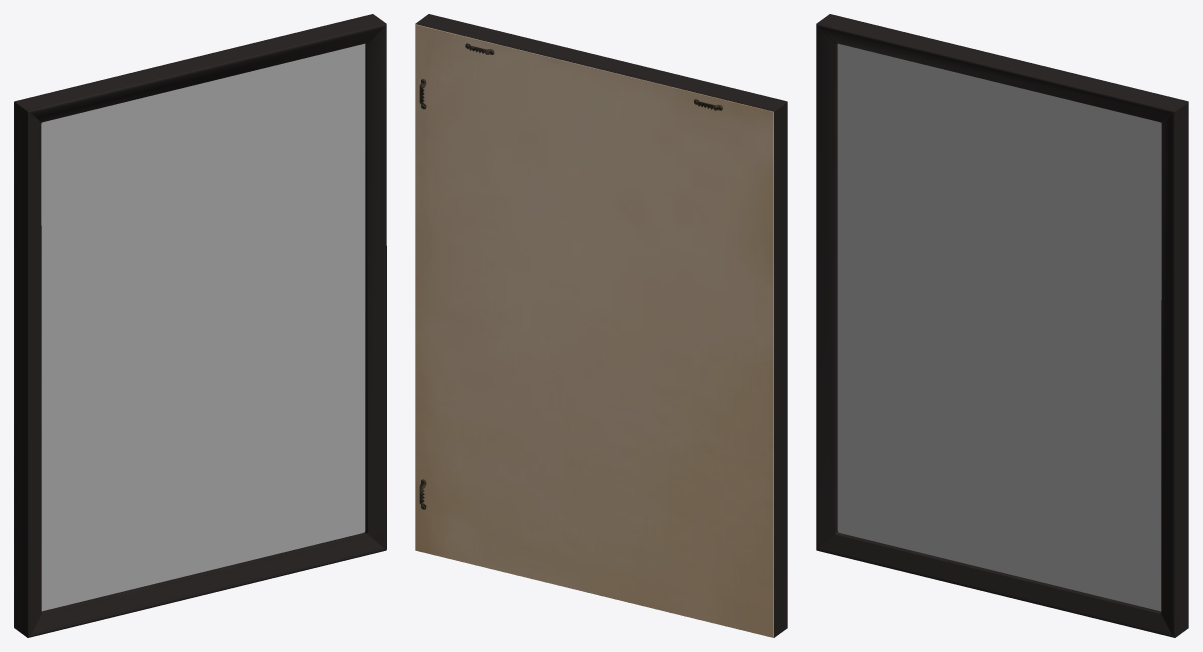
Rendered from B07RPPBPTP.glb.
3 renders of one model, left to right at view 1: azimuth 30°, elevation 25°; view 2: azimuth 150°, elevation 25°; view 3: azimuth 330°, elevation 25°, orthographic.
Visible parts, largest first — view 1: RootNode; view 2: RootNode; view 3: RootNode.
Part boxes in pixels (box(x1,y1,x2,y2)): RootNode: box(14, 14, 386, 637); RootNode: box(415, 14, 787, 637); RootNode: box(816, 14, 1188, 637).
Bounding box in the file's own units: 0.5069 × 0.7103 × 0.0391.
Materials: 1 (1 with a texture image).
